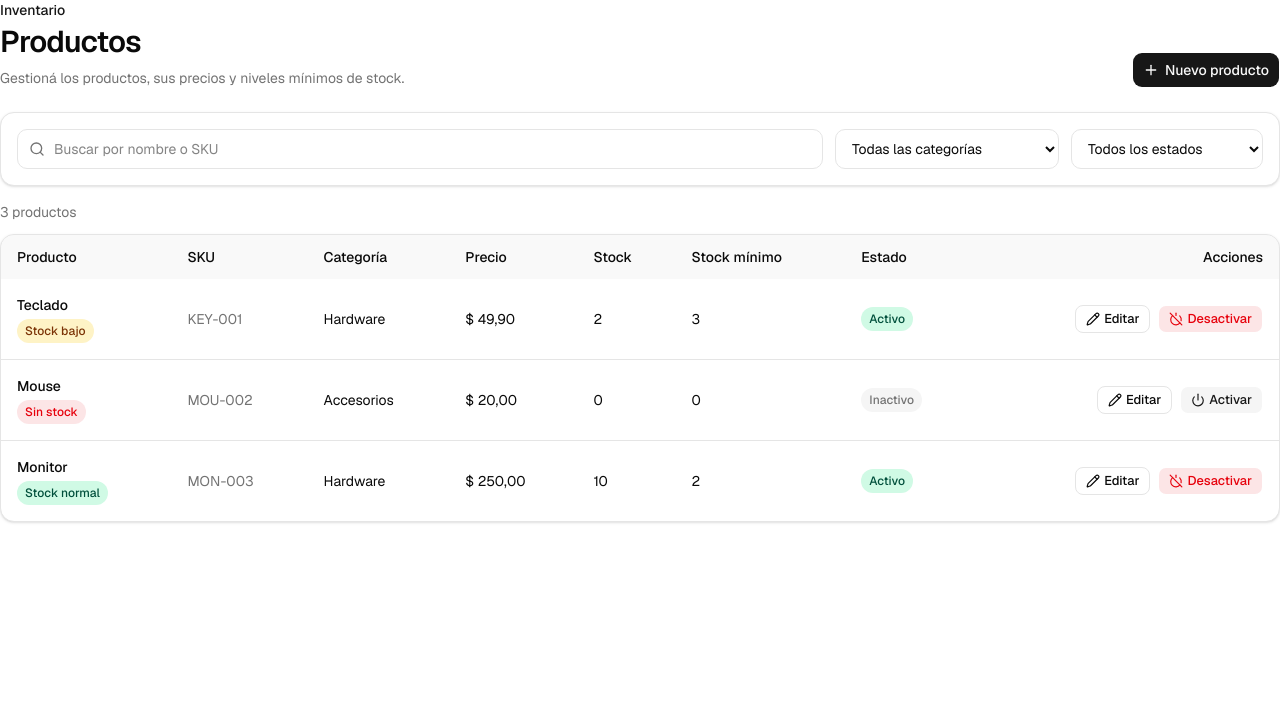
Test case: ProductsPage › keeps the form open and shows a duplicate SKU near the field
Click the button "Nuevo producto" at (1206, 70), box [1132,52,1279,88]
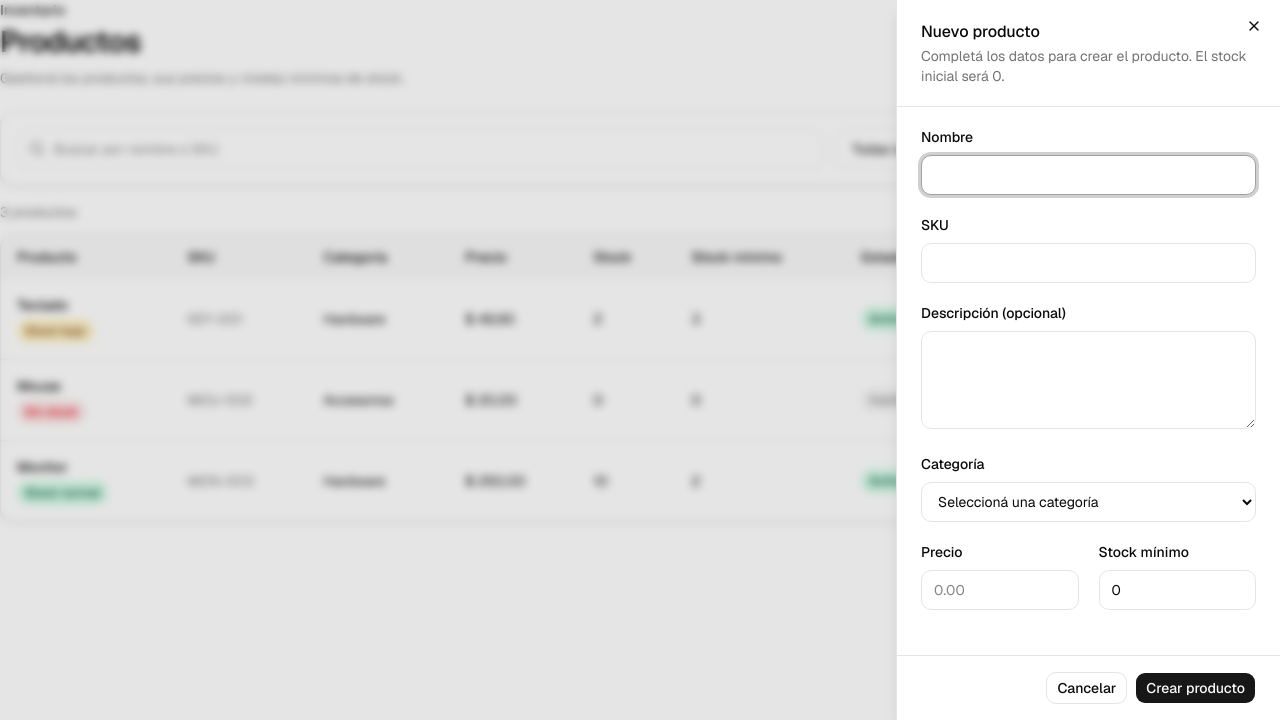
Type "Otro" into the field labelled "Nombre" at (1088, 175), box [921,155,1256,195]
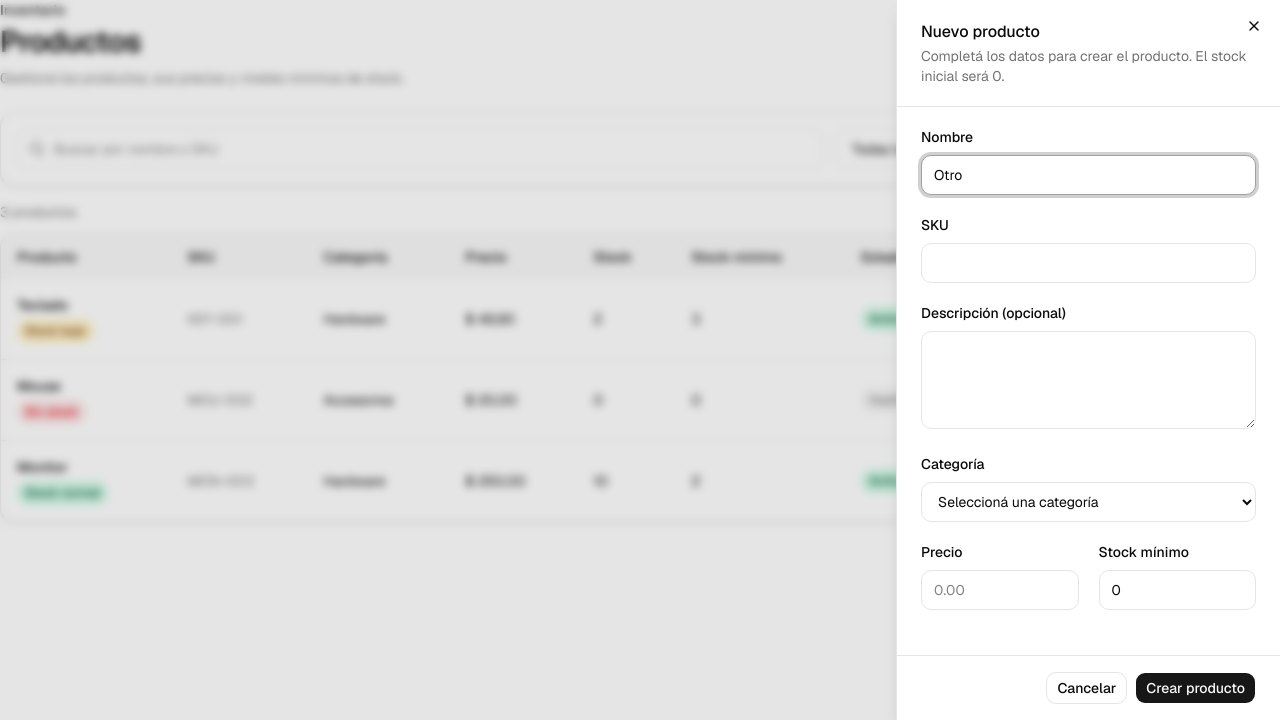
Type "KEY-001" into the field labelled "SKU" at (1088, 263), box [921,243,1256,283]
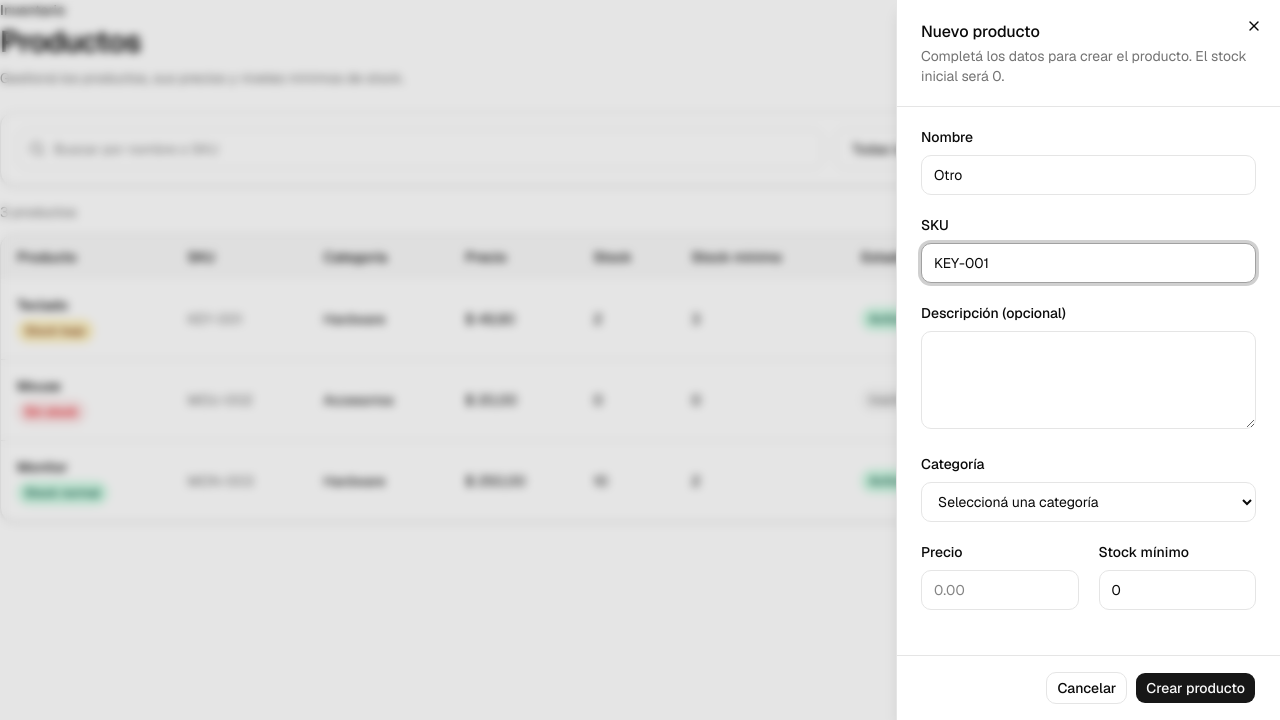
Select "Hardware" in the dropdown labelled "Categoría" at (1088, 502), box [921,482,1256,522]
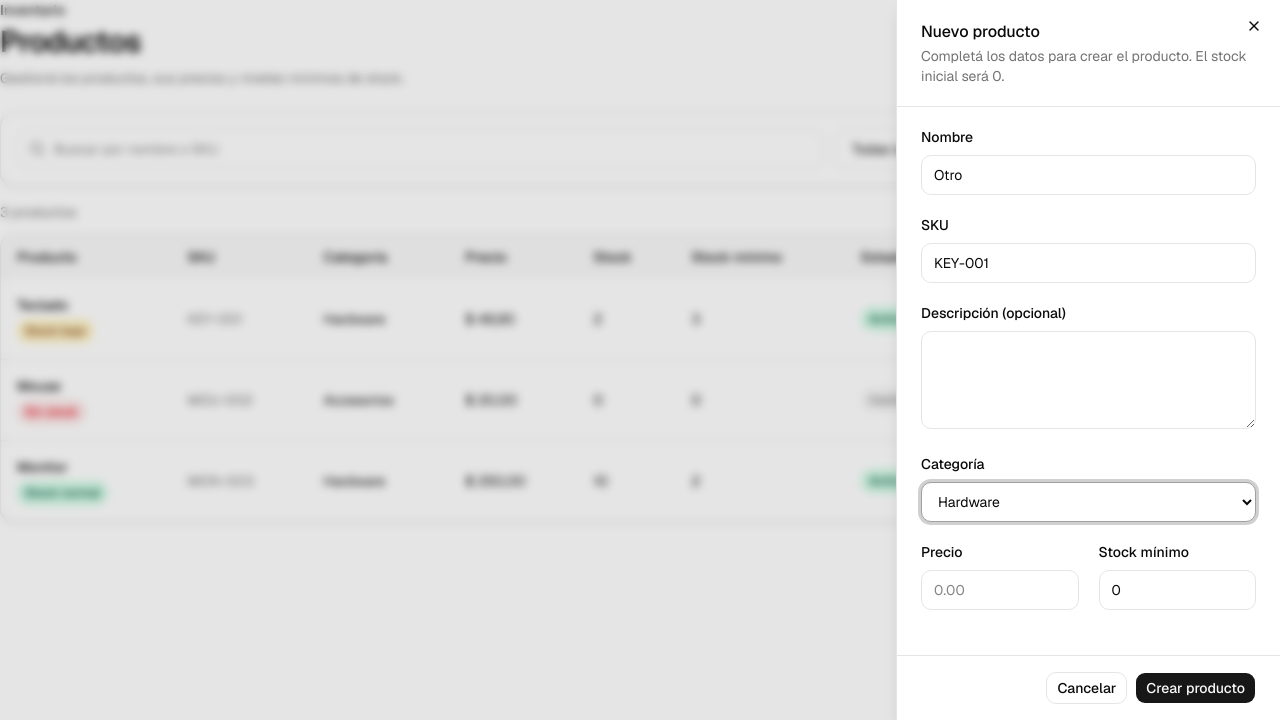
Type "10.00" into the field labelled "Precio" at (1000, 590), box [921,570,1078,610]
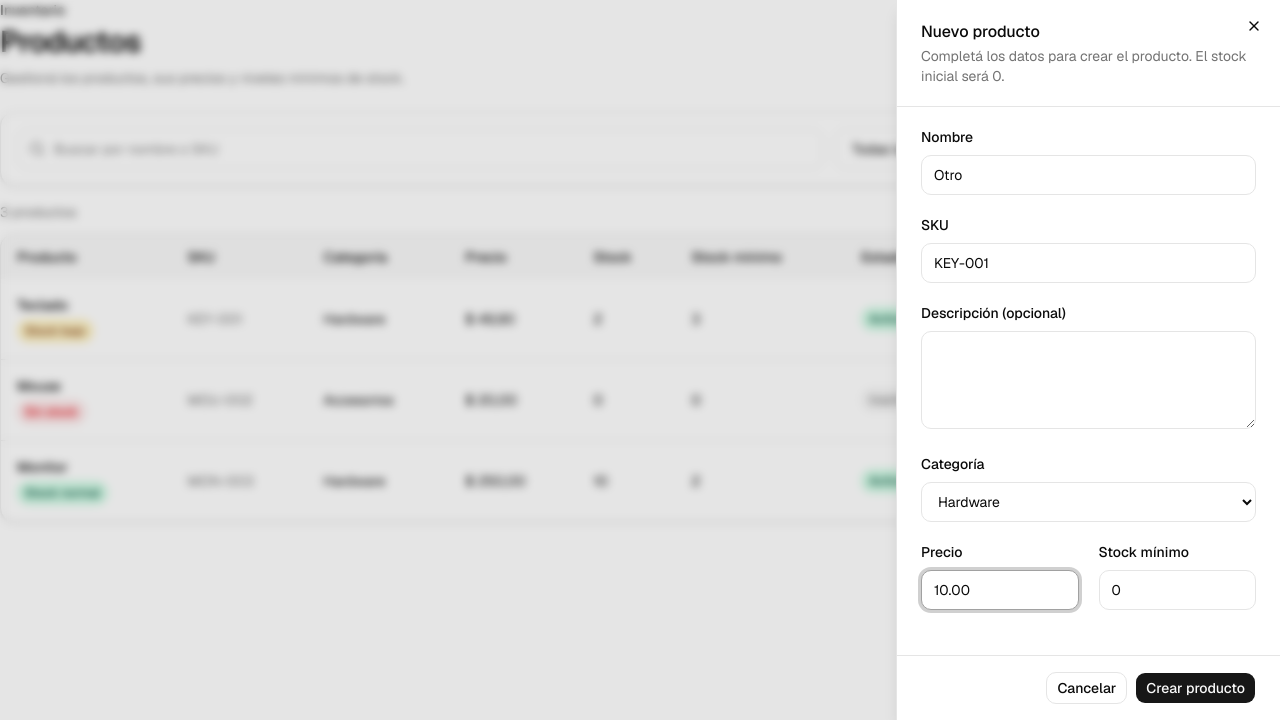
Click the button "Crear producto" at (1196, 688), box [1135,672,1256,704]
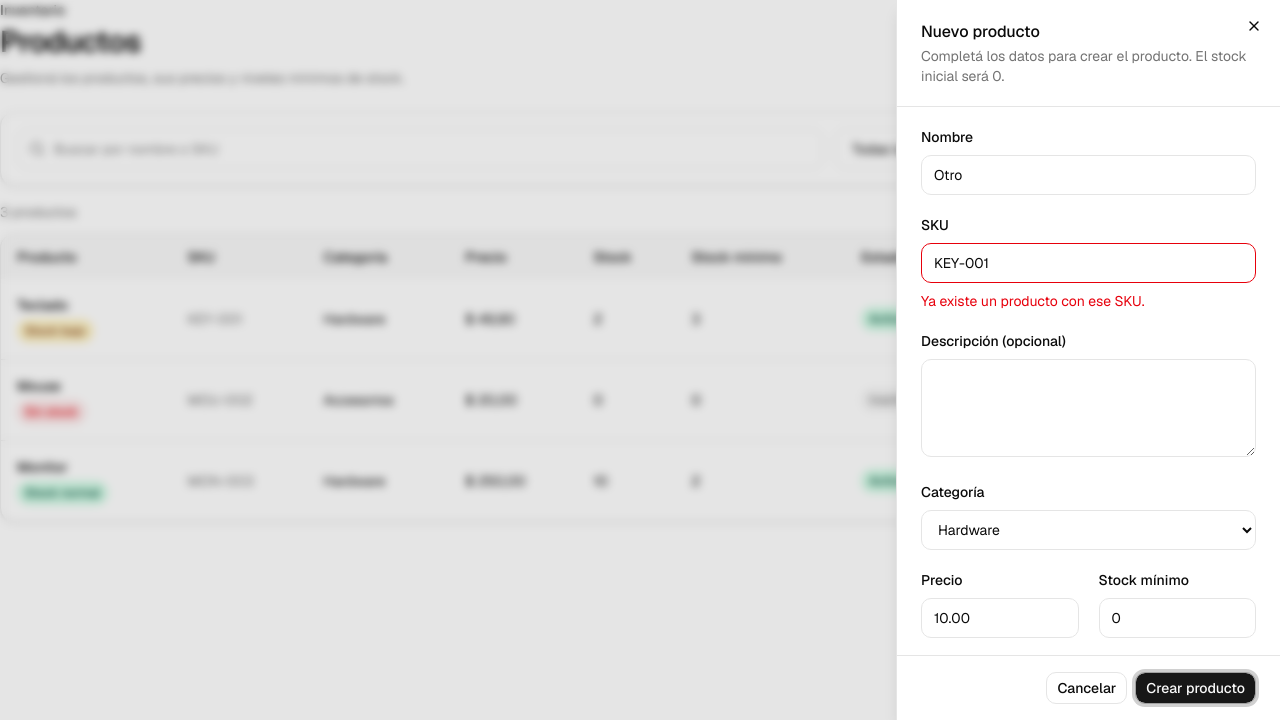
Expected: the message reads "Ya existe un producto con ese SKU.", [921,292,1144,310]
